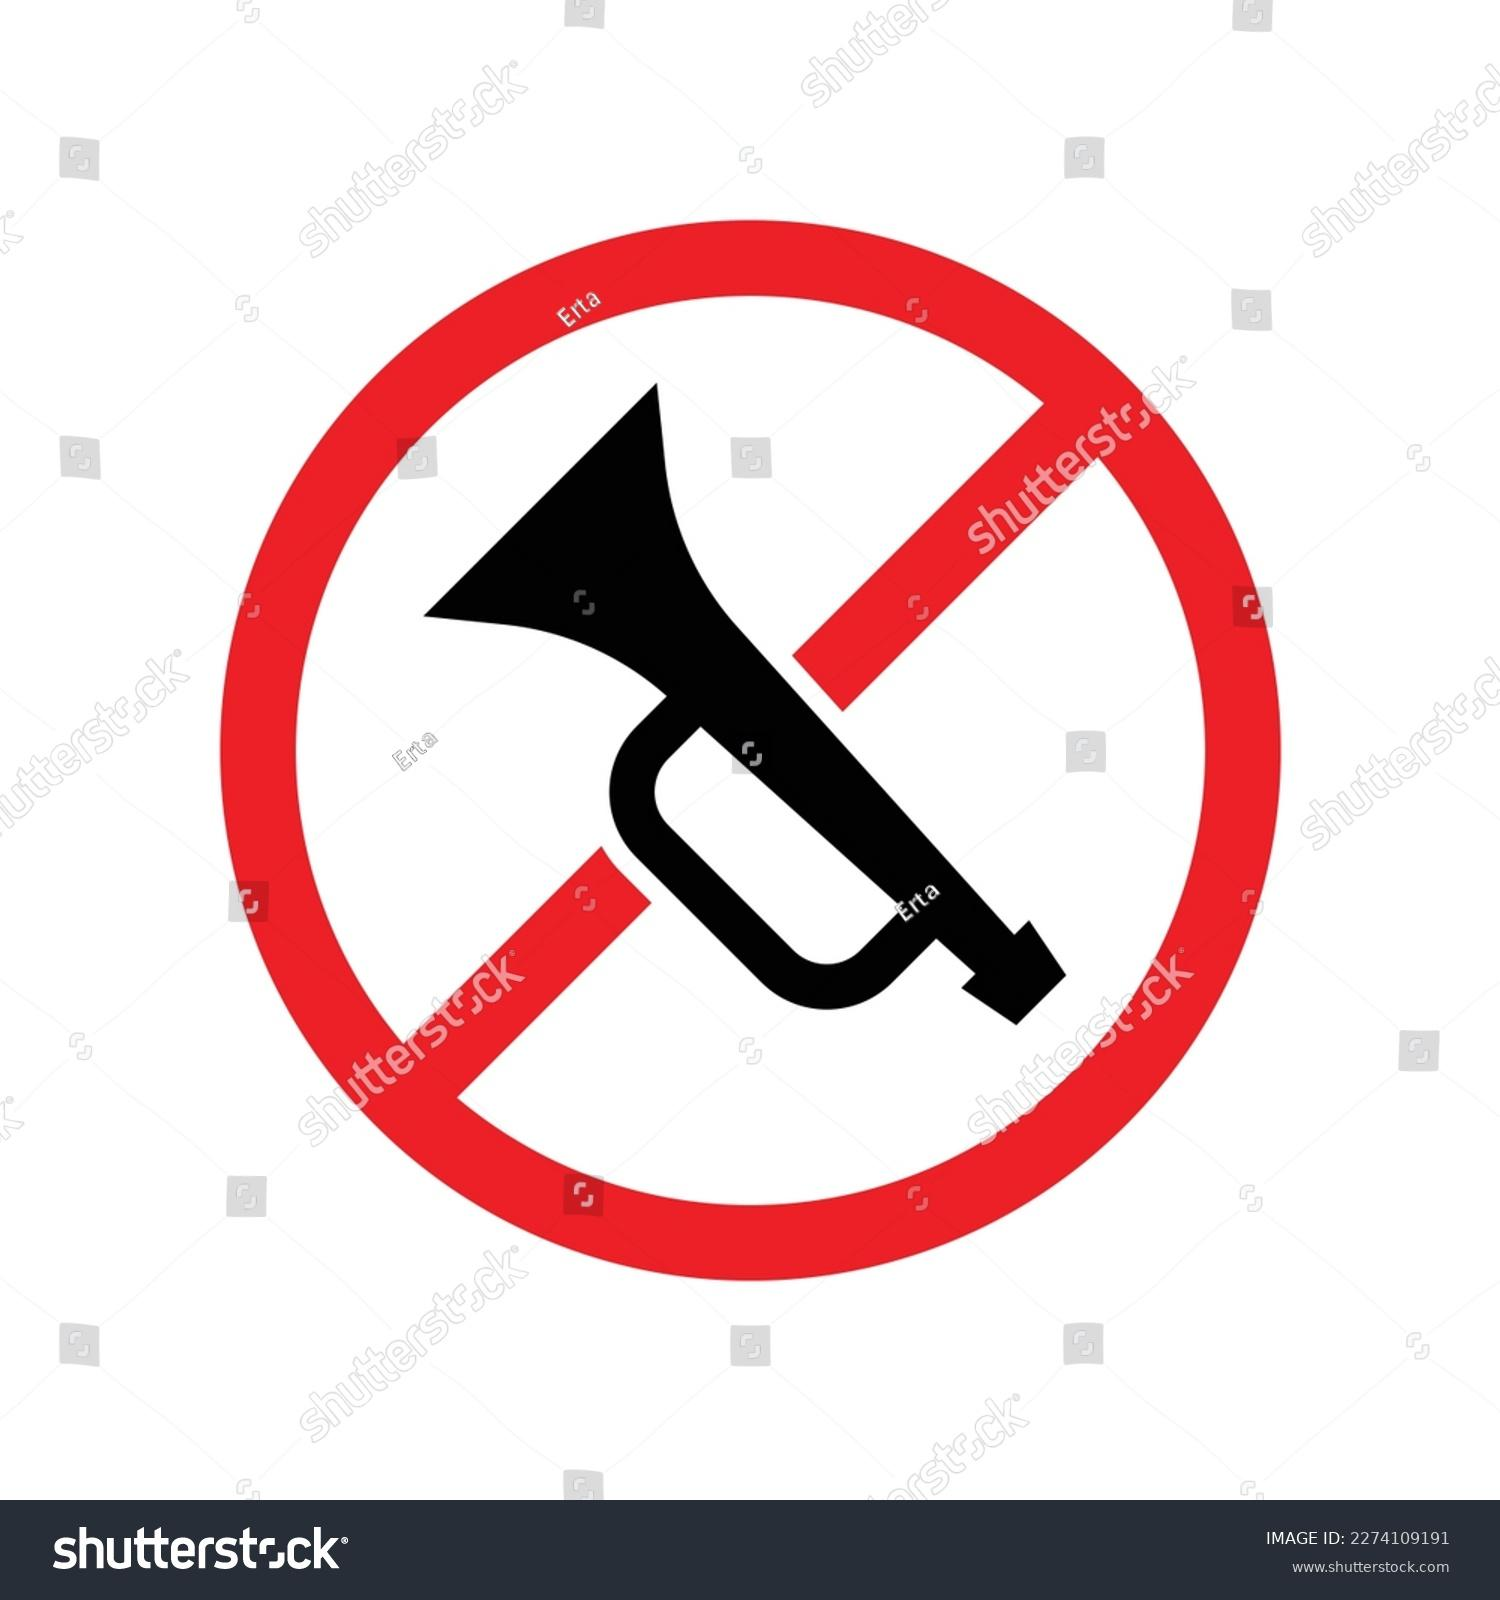Horn Prohibited: (197, 180, 1293, 1298)
